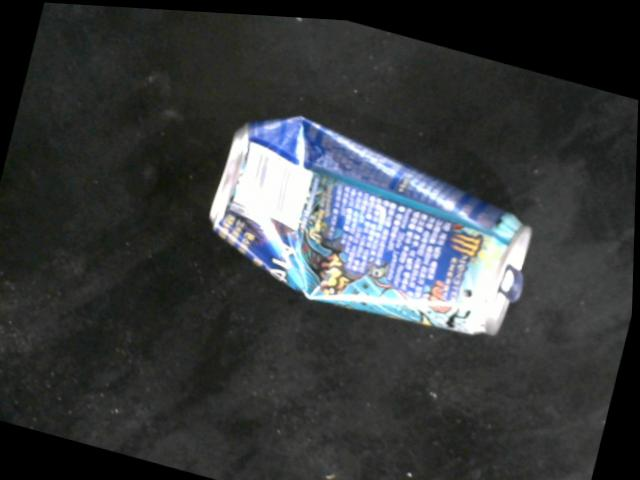can: (206, 107, 541, 331)
